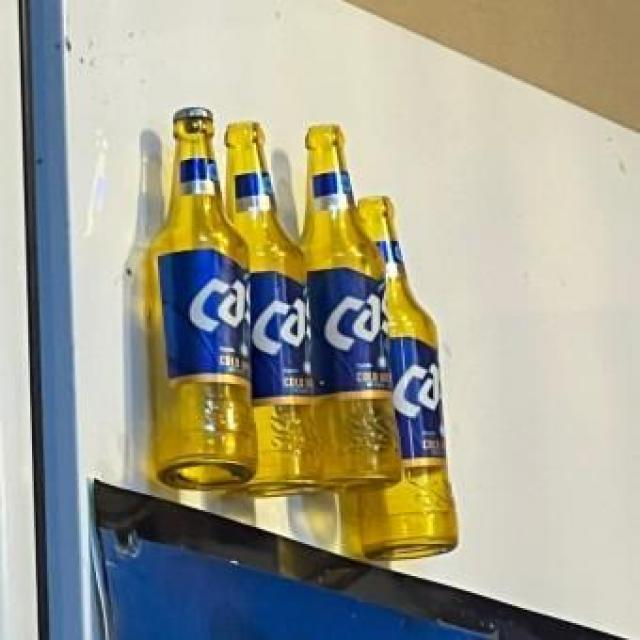beer-bottle: (340, 186, 470, 574), (145, 95, 256, 500), (218, 117, 317, 498), (304, 120, 406, 489)
